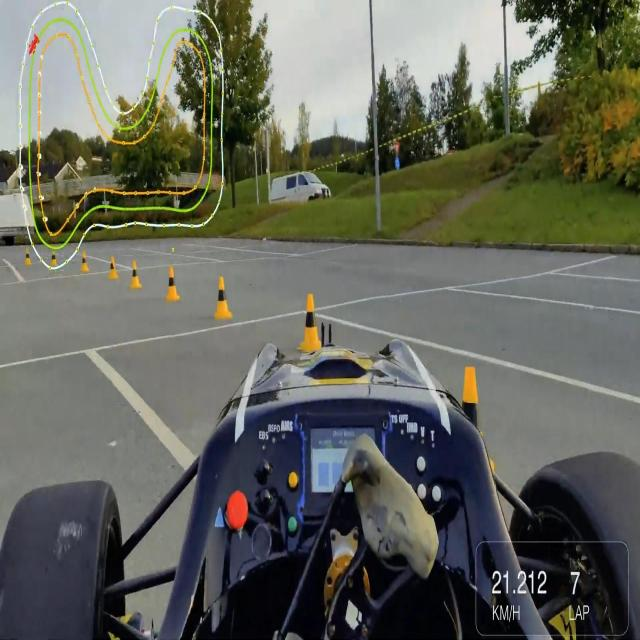yellow_cone: (453, 355, 497, 483), (293, 293, 326, 362), (207, 269, 241, 327), (167, 260, 180, 304), (129, 258, 142, 287), (78, 247, 90, 270), (108, 254, 116, 275)
